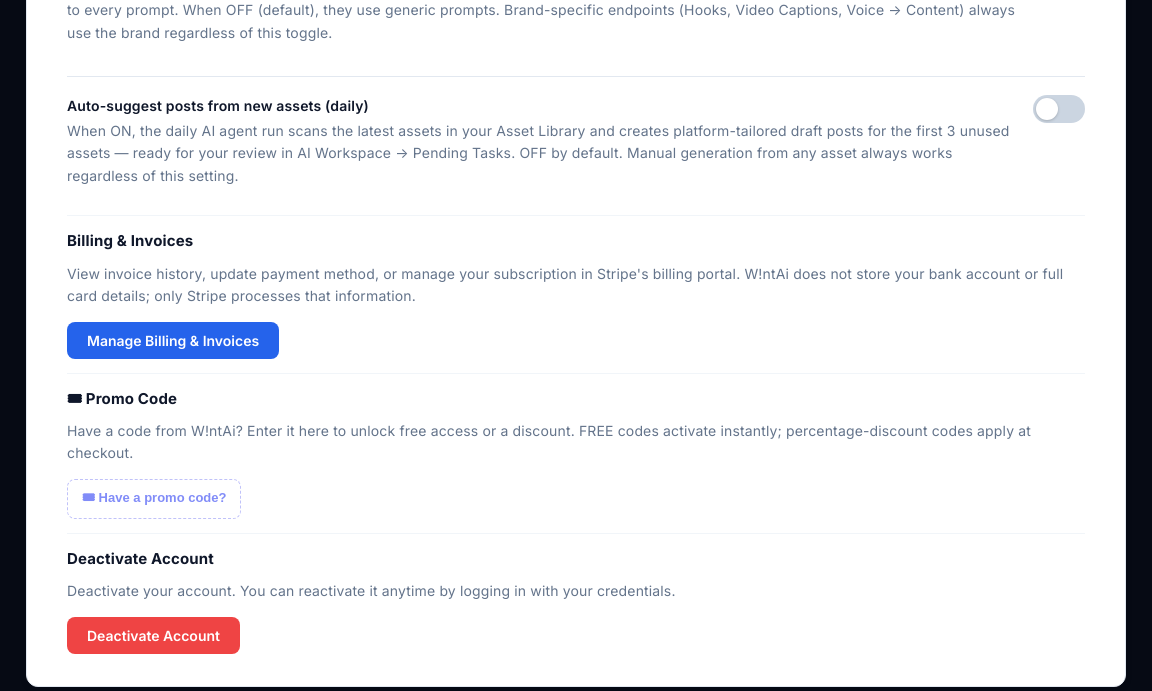
AccountSettings › shows password input and confirm button after clicking Deactivate Account
(page scrolled)
Step 1. Click the button "Deactivate Account" → click(154, 635), box x1=67 y1=617 x2=240 y2=654
(page scrolled)
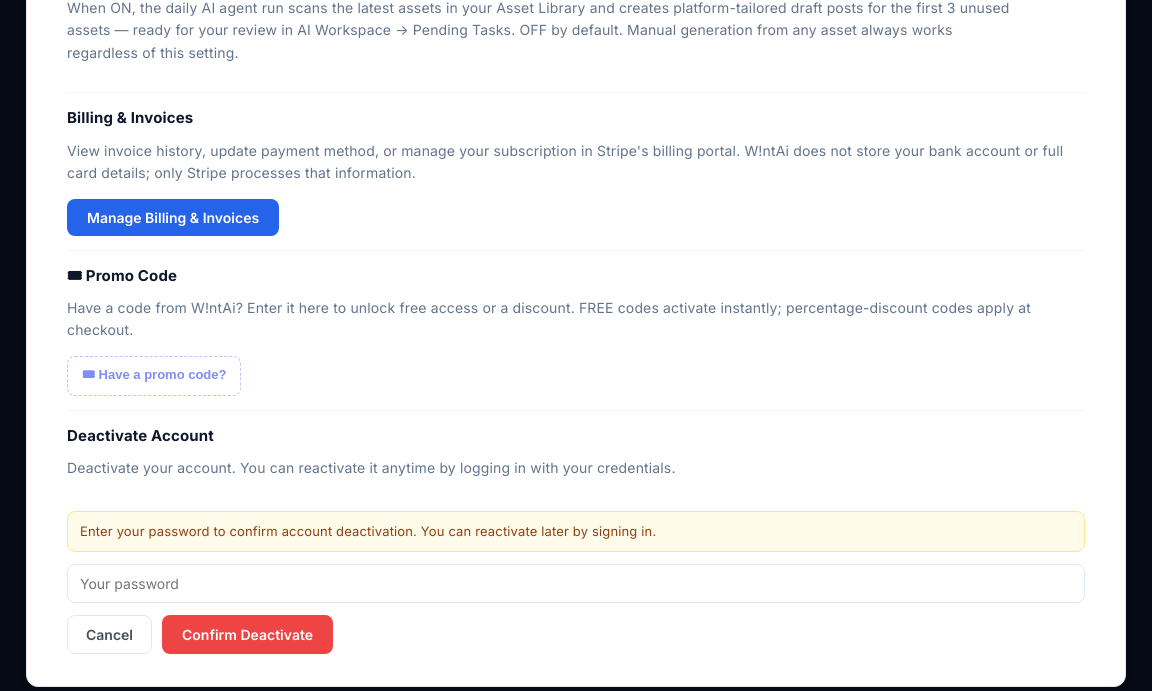
Now the password field with placeholder "Your password" is shown, box x1=67 y1=564 x2=1085 y2=603
Now the button "Confirm Deactivate" is shown, box x1=162 y1=615 x2=333 y2=654
